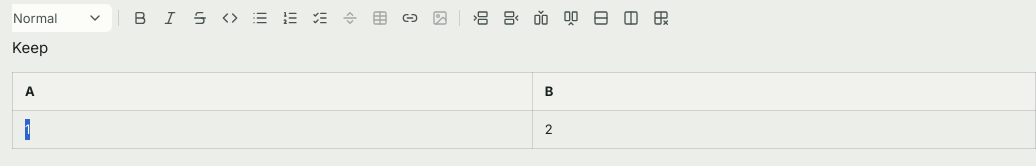
Test: FormatToolbar › tables › deletes the table
The image size is (1036, 166).
Expected: the button named "Bold" is enabled, [125,4,153,32]
Click the button named "Delete table" at (660, 18), box [646,4,674,32]
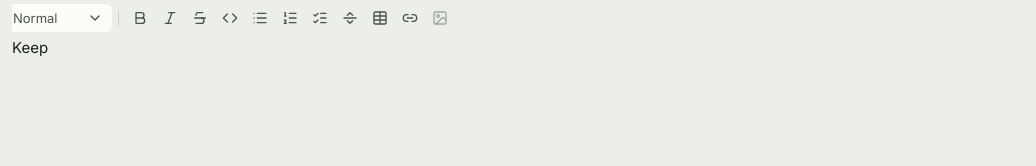
Expected: the button "Table" is gone
